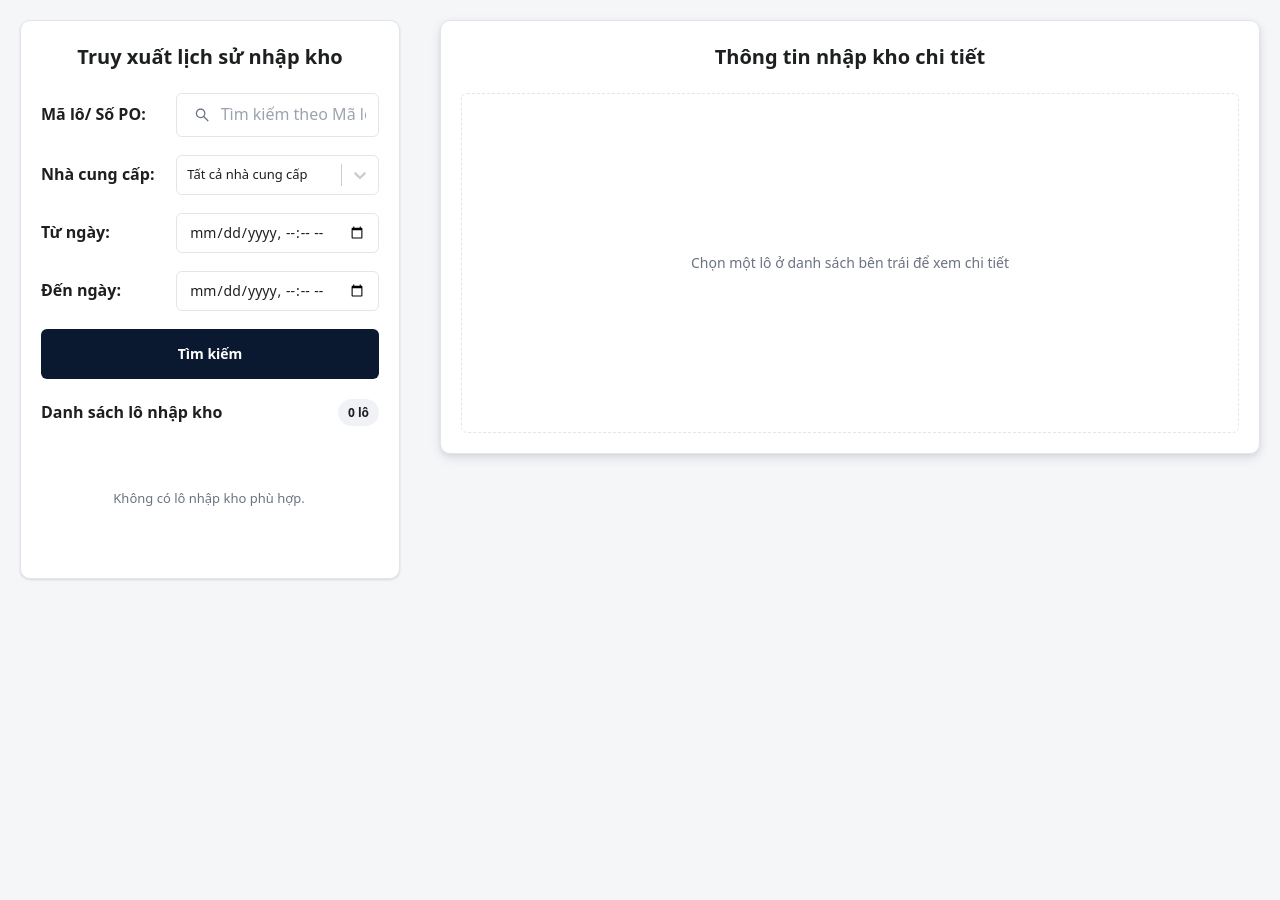
Test: ReceiptHistory - Xuất PDF › mở modal, nhập đơn giá và gọi exportReceiptToPdf với đúng dữ liệu
Type "LOT001" into the field with placeholder "Tìm kiếm theo Mã lô/ số PO". click: (293, 115)
box: [221,102,366,128]
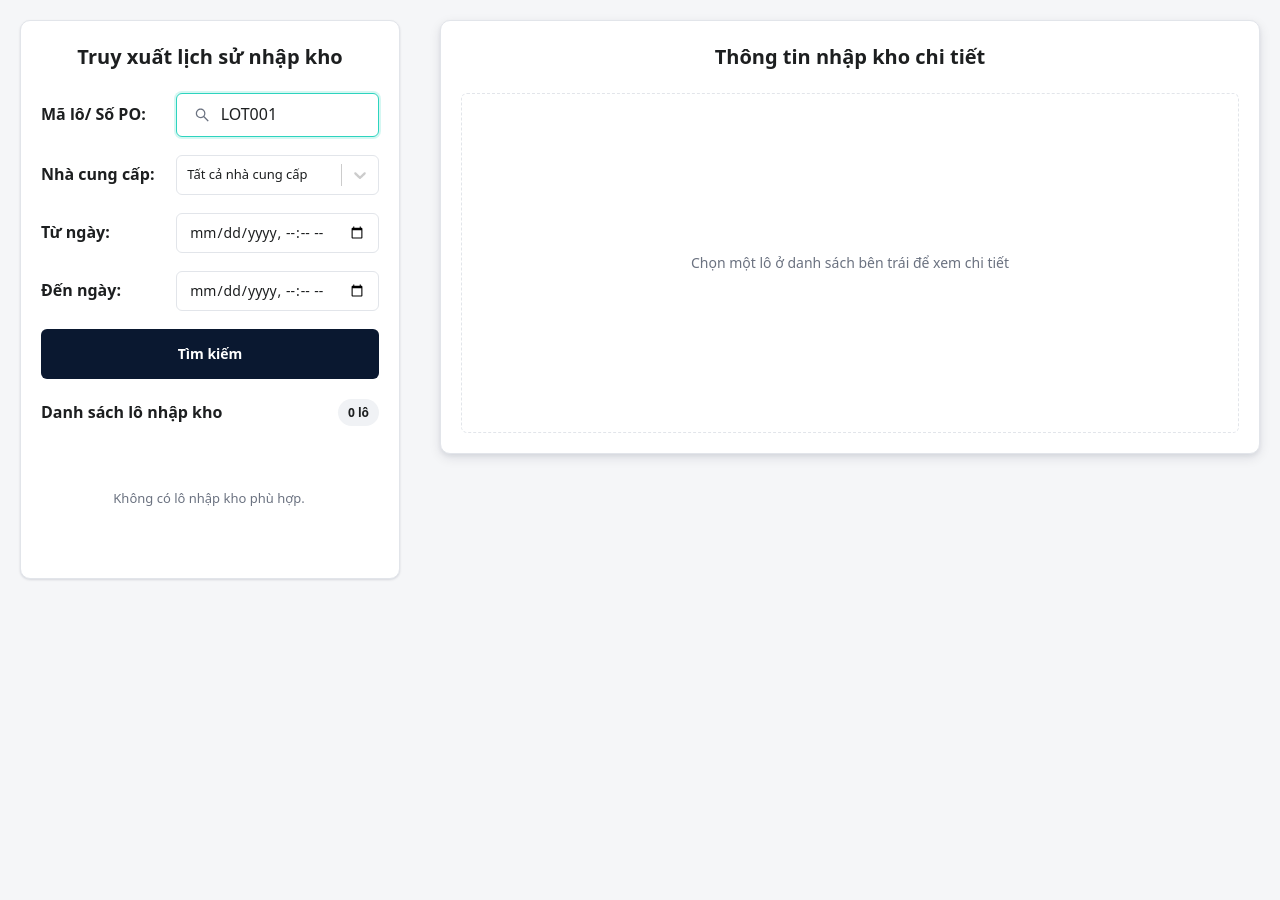
Click the button "Tìm kiếm". click: (210, 354)
box: [41,329,379,379]
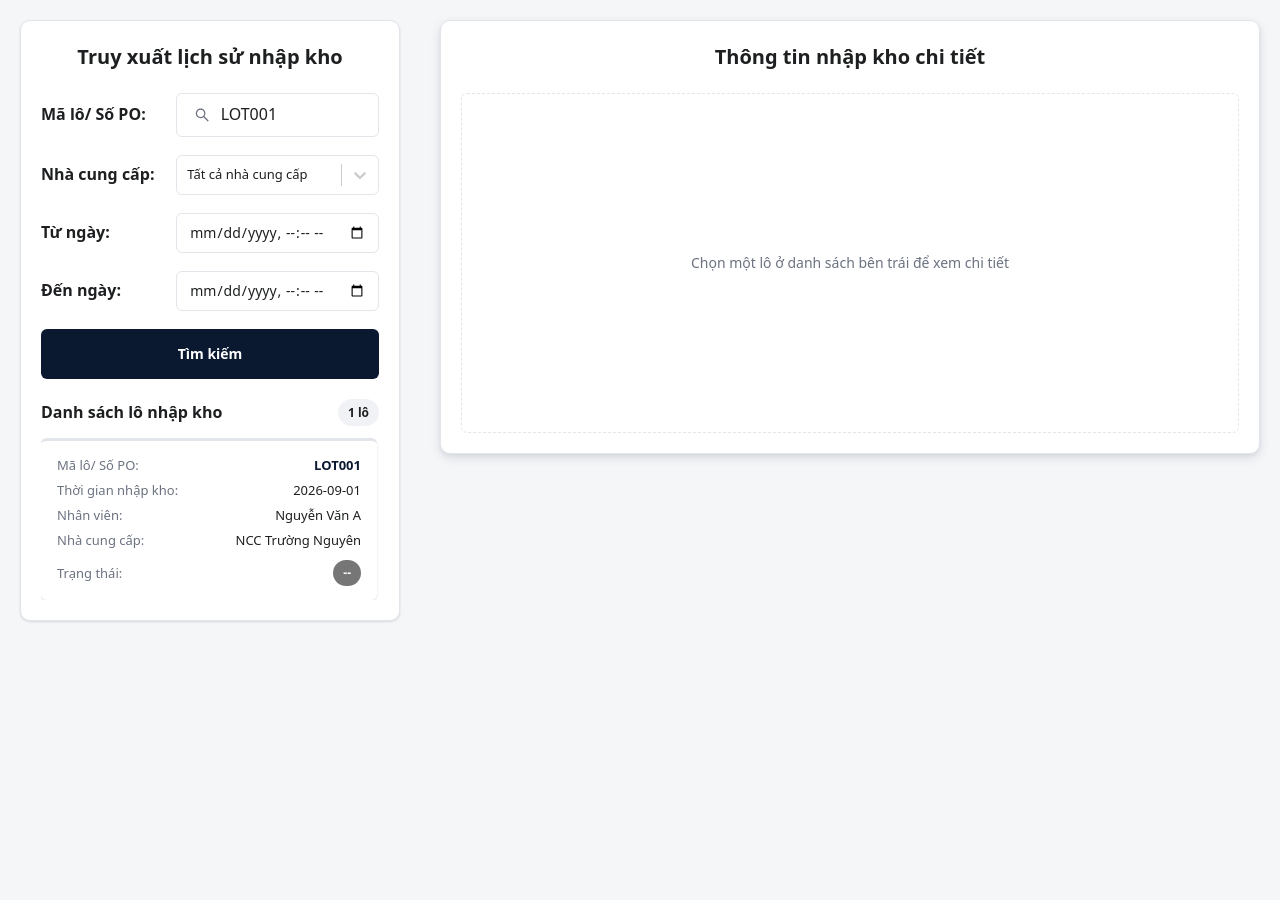
Expected: the text "LOT001" is shown
Click the text "LOT001". click: (338, 465)
box: [314,456,361,474]
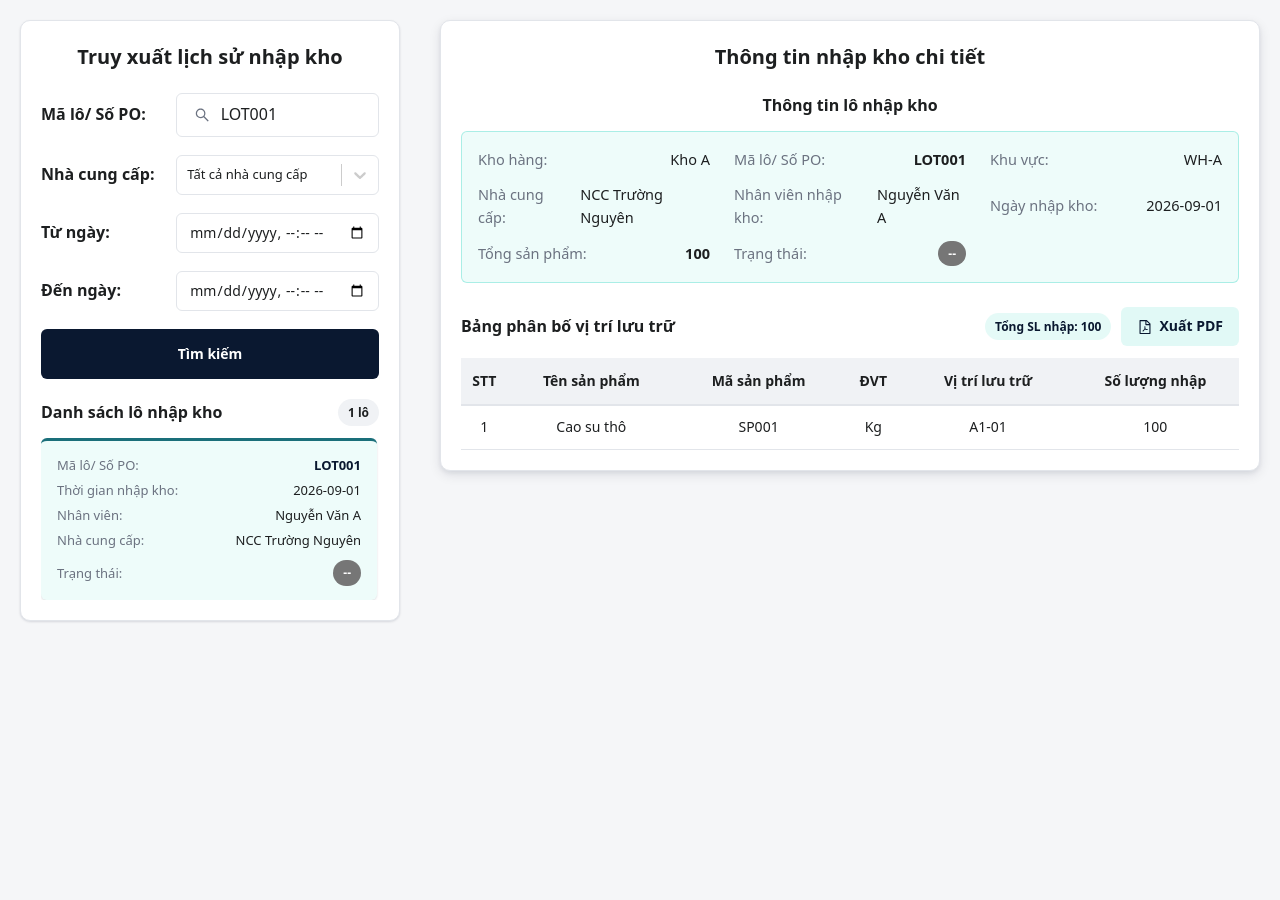
Expected: the text "Cao su thô" is shown, [508,405,675,449]
Expected: the button "Xuất PDF" is enabled
Click the button "Xuất PDF". click: (1180, 326)
box: [1122,307,1239,346]
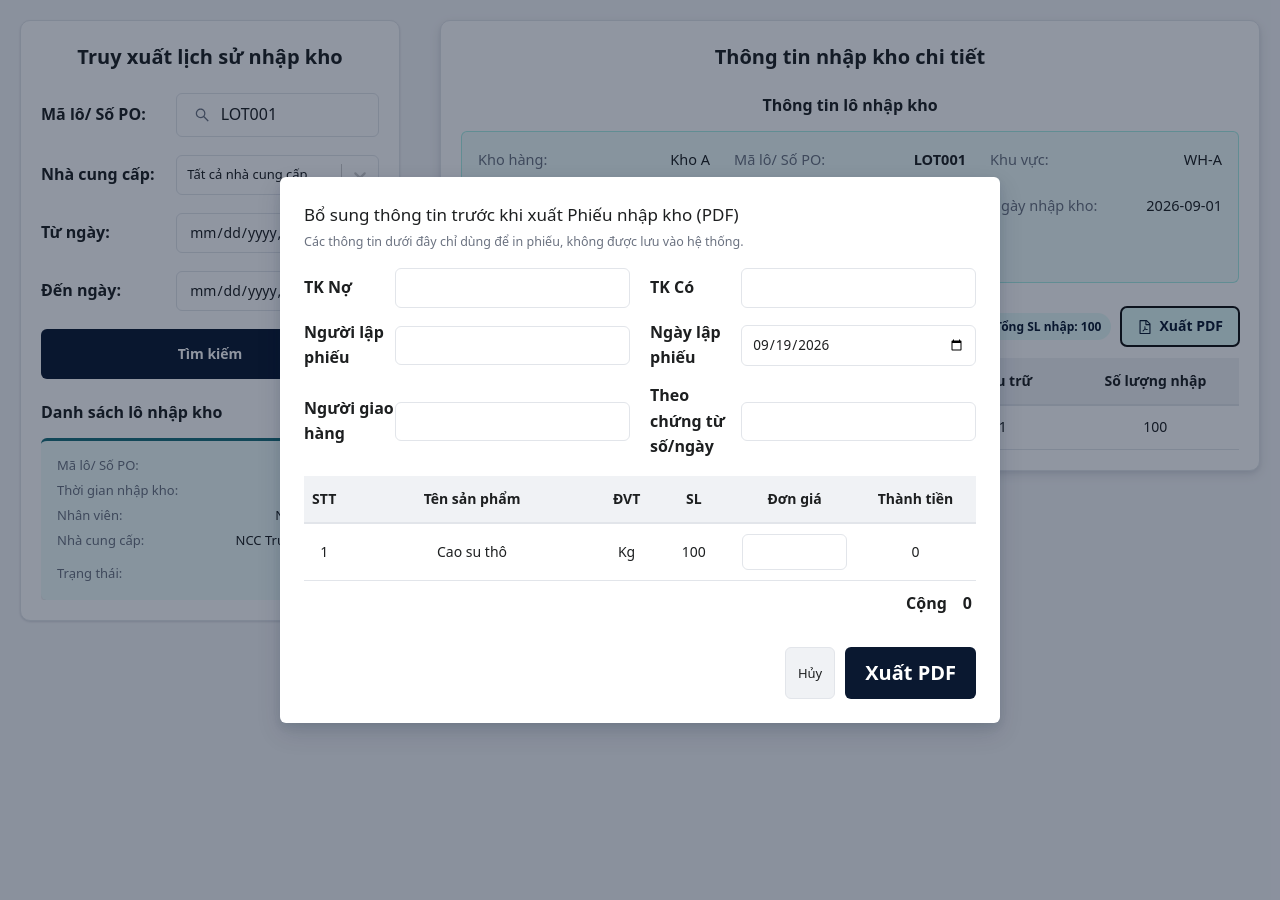
Expected: the heading "Bổ sung thông tin trước khi xuất Phiếu nhập kho (PDF)" is shown, [304,203,739,226]
Type "20000" into the number field. click: (795, 552)
box: [742,534,847,570]
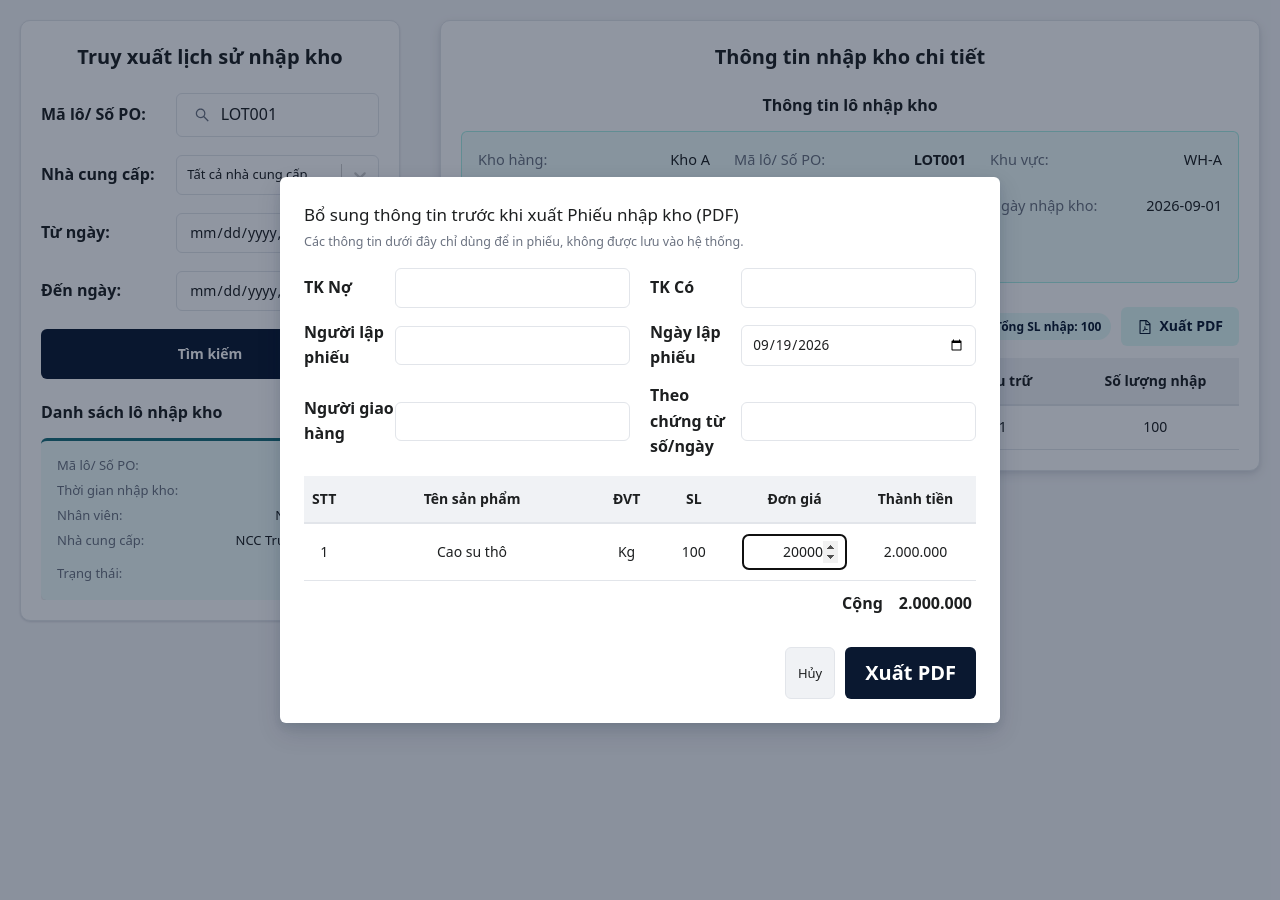
Click the button "Xuất PDF". click: (911, 673)
box: [845,647,976,699]
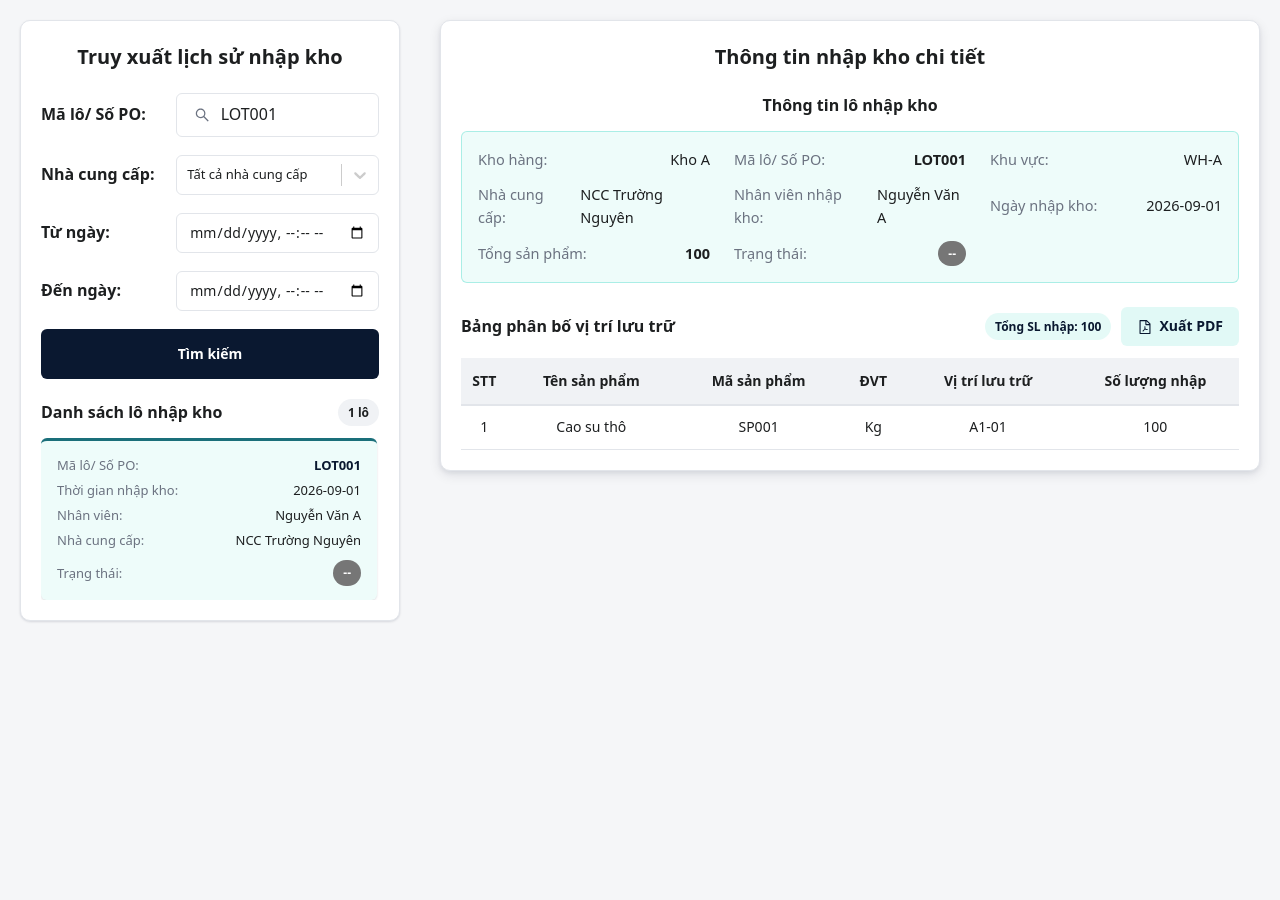
Expected: the text "LOT001" below "Danh sách lô nhập kho" is shown, [314,456,361,474]
Expected: the heading "Bổ sung thông tin trước khi xuất Phiếu nhập kho (PDF)" is gone
